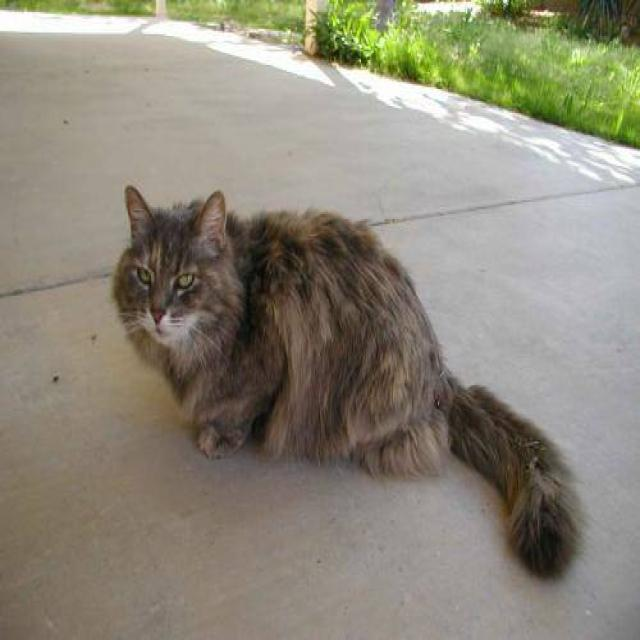cat: (110, 183, 586, 580)
